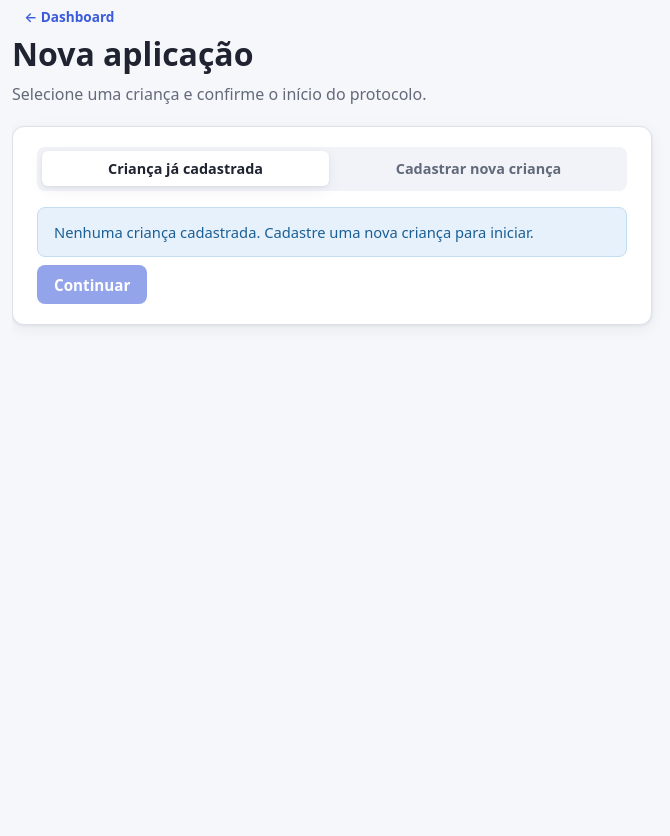
NewApplicationPage › permite cadastrar uma nova criança durante a aplicação
Click the tab "Cadastrar nova criança" at x=478, y=169, box [335, 151, 622, 186]
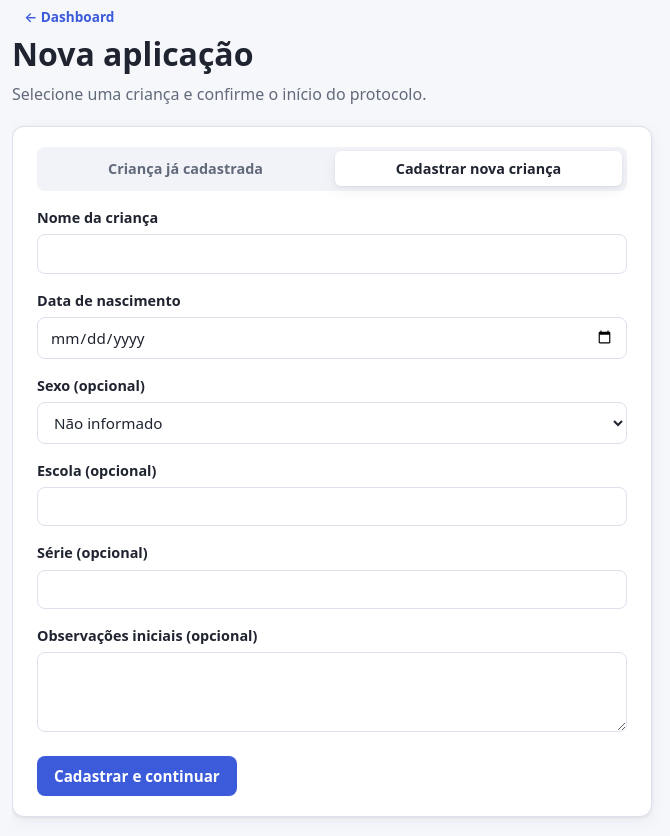
Type "Bia" into the field labelled "Nome da criança" at x=332, y=254, box [37, 234, 627, 274]
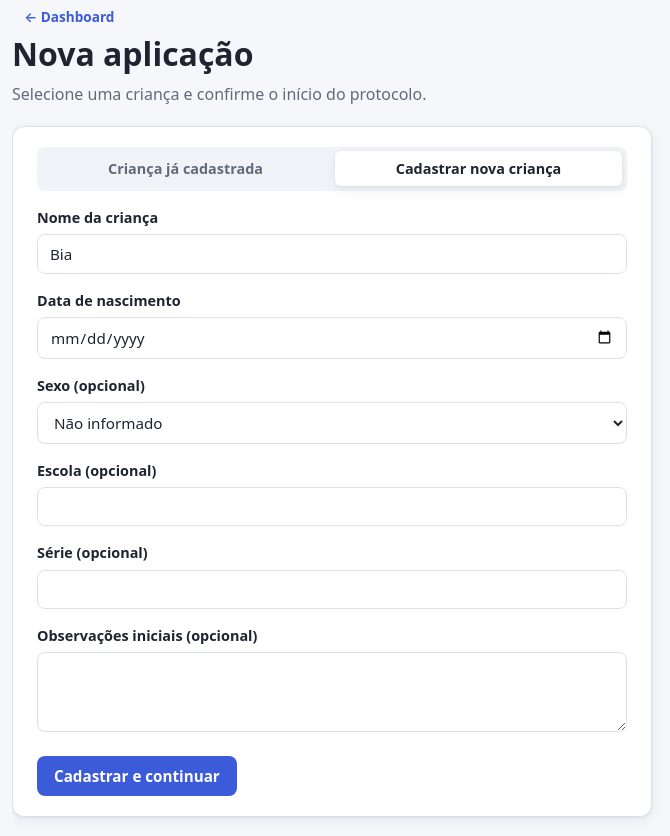
Type "2019-04-12" into the date field labelled "Data de nascimento" at x=332, y=338, box [37, 317, 627, 359]
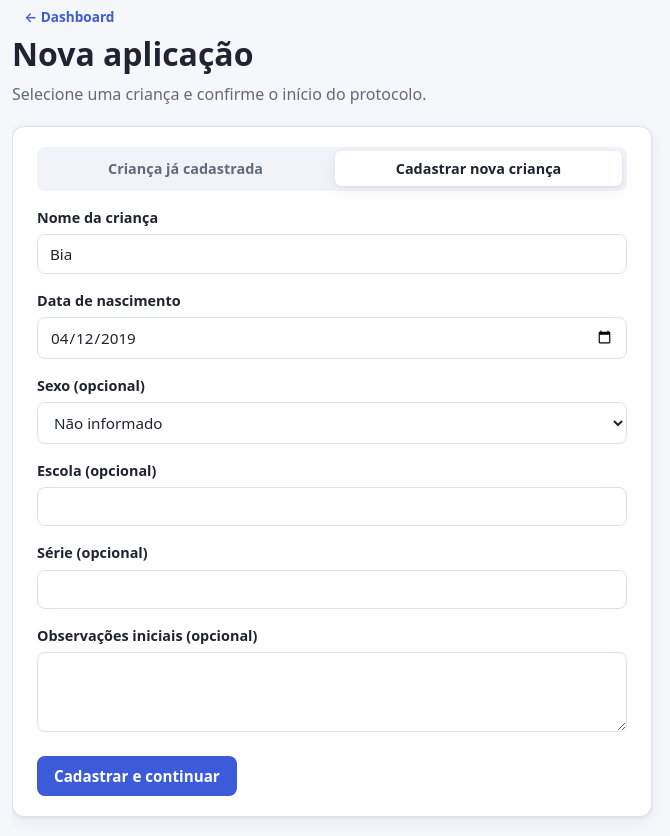
Click the button "Cadastrar e continuar" at x=137, y=776, box [37, 756, 237, 796]
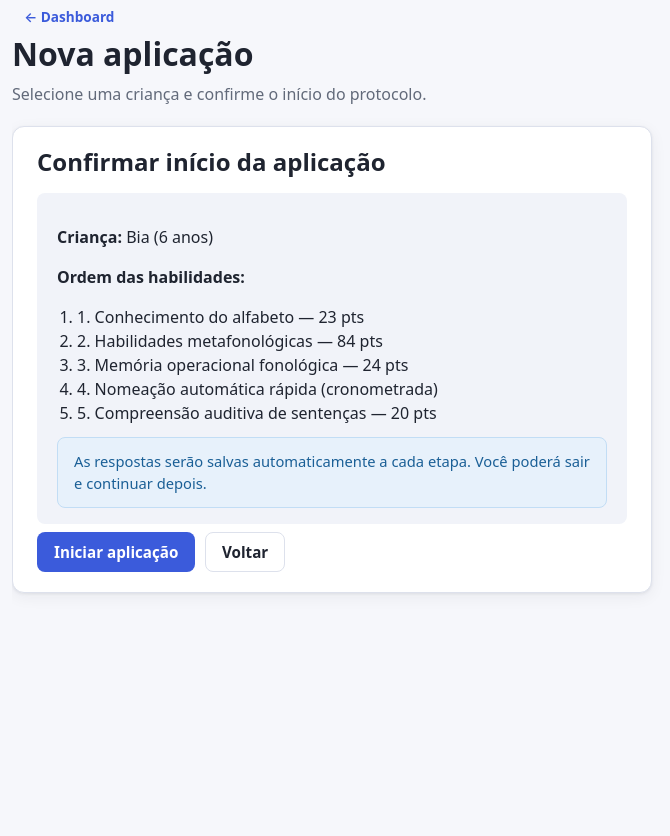
Expected: the heading "Confirmar início da aplicação" is shown, [37, 145, 386, 178]
